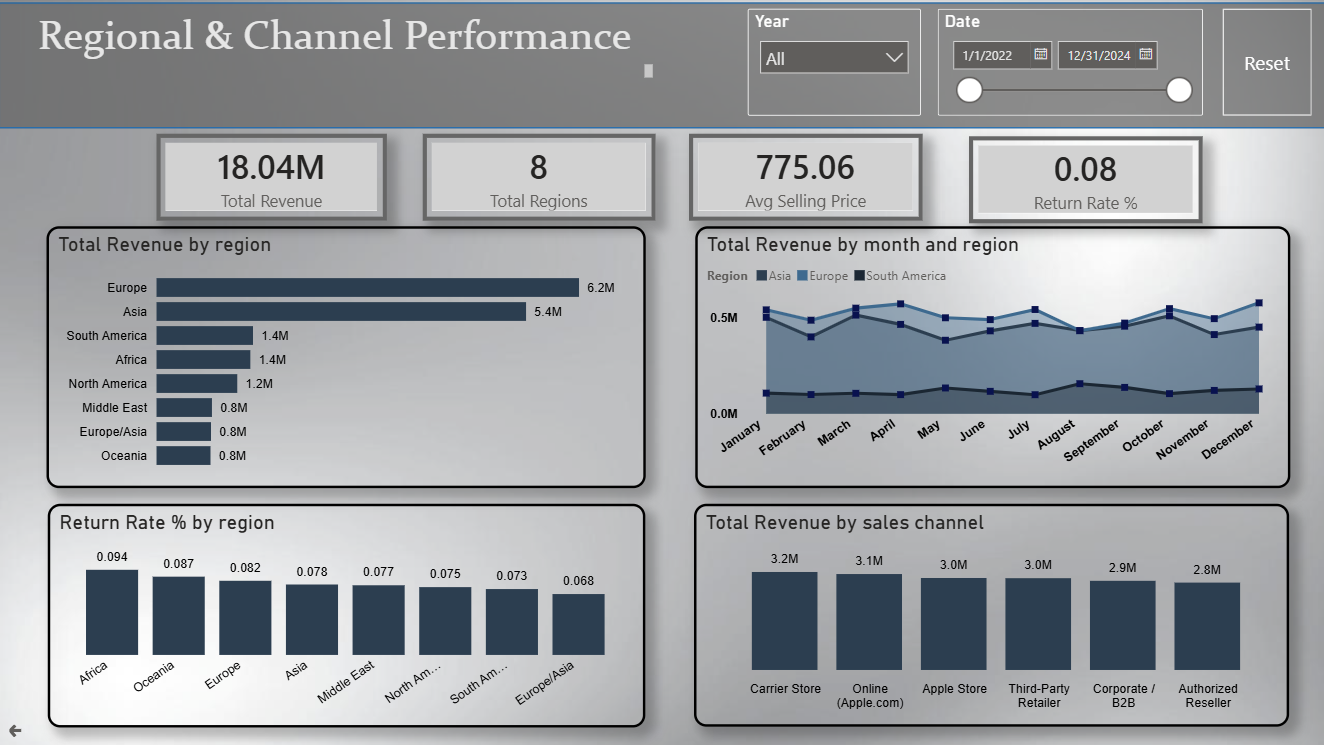

The dashboard page shown, as its layout file describes it:
{"tool":"powerbi","page":{"name":"Regional & Channel Performance ","canvas":[1280,720],"ordinal":3},"visuals":[{"type":"shape","box":[0,2.9,1280,121.4],"z":0},{"type":"cardVisual","fields":{"Data":["apple_global_sales_dataset.Total Revenue"]},"box":[151.4,128.6,222,83.7],"z":0,"group":"g1"},{"type":"textbox","title":"Regional & Channel Performance ","box":[33.1,8.6,603.7,71.2],"z":1000},{"type":"cardVisual","fields":{"Data":["apple_global_sales_dataset.Total Regions"]},"box":[408.9,128.6,224.5,83.7],"z":1000,"group":"g1"},{"type":"actionButton","box":[1181.6,8.6,85.9,103.1],"z":2000},{"type":"cardVisual","fields":{"Data":["apple_global_sales_dataset.Avg Selling Price"]},"box":[665.2,128.6,225.8,83.7],"z":2000,"group":"g1"},{"type":"group","id":"g1","title":"Group 1","box":[151.4,128.6,1010,84.3],"z":3000},{"type":"cardVisual","fields":{"Data":["apple_global_sales_dataset.Return Rate %"]},"box":[935.4,130.6,225.8,83.7],"z":3000,"group":"g1"},{"type":"slicer","title":"Year","fields":{"Values":["apple_global_sales_dataset.year"]},"box":[722.9,8.6,167.1,102.9],"z":4000},{"type":"clusteredBarChart","fields":{"Category":["apple_global_sales_dataset.region"],"Y":["apple_global_sales_dataset.Total Revenue"]},"box":[45.7,218.6,578.6,252.9],"z":5000},{"type":"lineChart","fields":{"Category":["apple_global_sales_dataset.month"],"Series":["apple_global_sales_dataset.region"],"Y":["apple_global_sales_dataset.Total Revenue"]},"box":[671.4,218.6,574.3,252.9],"z":6000},{"type":"clusteredColumnChart","fields":{"Category":["apple_global_sales_dataset.sales channel"],"Y":["apple_global_sales_dataset.Total Revenue"]},"box":[671.4,486.1,574.4,215.2],"z":7000},{"type":"clusteredColumnChart","fields":{"Category":["apple_global_sales_dataset.region"],"Y":["apple_global_sales_dataset.Return Rate %"]},"box":[47.1,485.7,577.1,215.7],"z":8000},{"type":"actionButton","box":[1.4,691.4,31.4,28.6],"z":9000},{"type":"slicer","title":"Date","fields":{"Values":["apple_global_sales_dataset.sale_date"]},"box":[905.7,8.6,255.7,102.9],"z":10000}]}

Visuals, with their boxes in screenshot pixels (x1, y1, x2, y2), scaled from the page's 1280x720 canvas onto the 1324x745 screenshot:
shape: box=[0, 3, 1323, 129]
cardVisual - apple_global_sales_dataset.Total Revenue: box=[157, 133, 386, 220]
"Regional & Channel Performance " textbox: box=[34, 9, 659, 83]
cardVisual - apple_global_sales_dataset.Total Regions: box=[423, 133, 655, 220]
actionButton: box=[1222, 9, 1311, 116]
cardVisual - apple_global_sales_dataset.Avg Selling Price: box=[688, 133, 922, 220]
"Group 1" group: box=[157, 133, 1201, 220]
cardVisual - apple_global_sales_dataset.Return Rate %: box=[968, 135, 1201, 222]
"Year" slicer: box=[748, 9, 921, 115]
clusteredBarChart - apple_global_sales_dataset.region x apple_global_sales_dataset.Total Revenue: box=[47, 226, 646, 488]
lineChart - apple_global_sales_dataset.month x apple_global_sales_dataset.region: box=[694, 226, 1289, 488]
clusteredColumnChart - apple_global_sales_dataset.sales channel x apple_global_sales_dataset.Total Revenue: box=[694, 503, 1289, 726]
clusteredColumnChart - apple_global_sales_dataset.region x apple_global_sales_dataset.Return Rate %: box=[49, 503, 646, 726]
actionButton: box=[1, 715, 34, 744]
"Date" slicer: box=[937, 9, 1201, 115]
